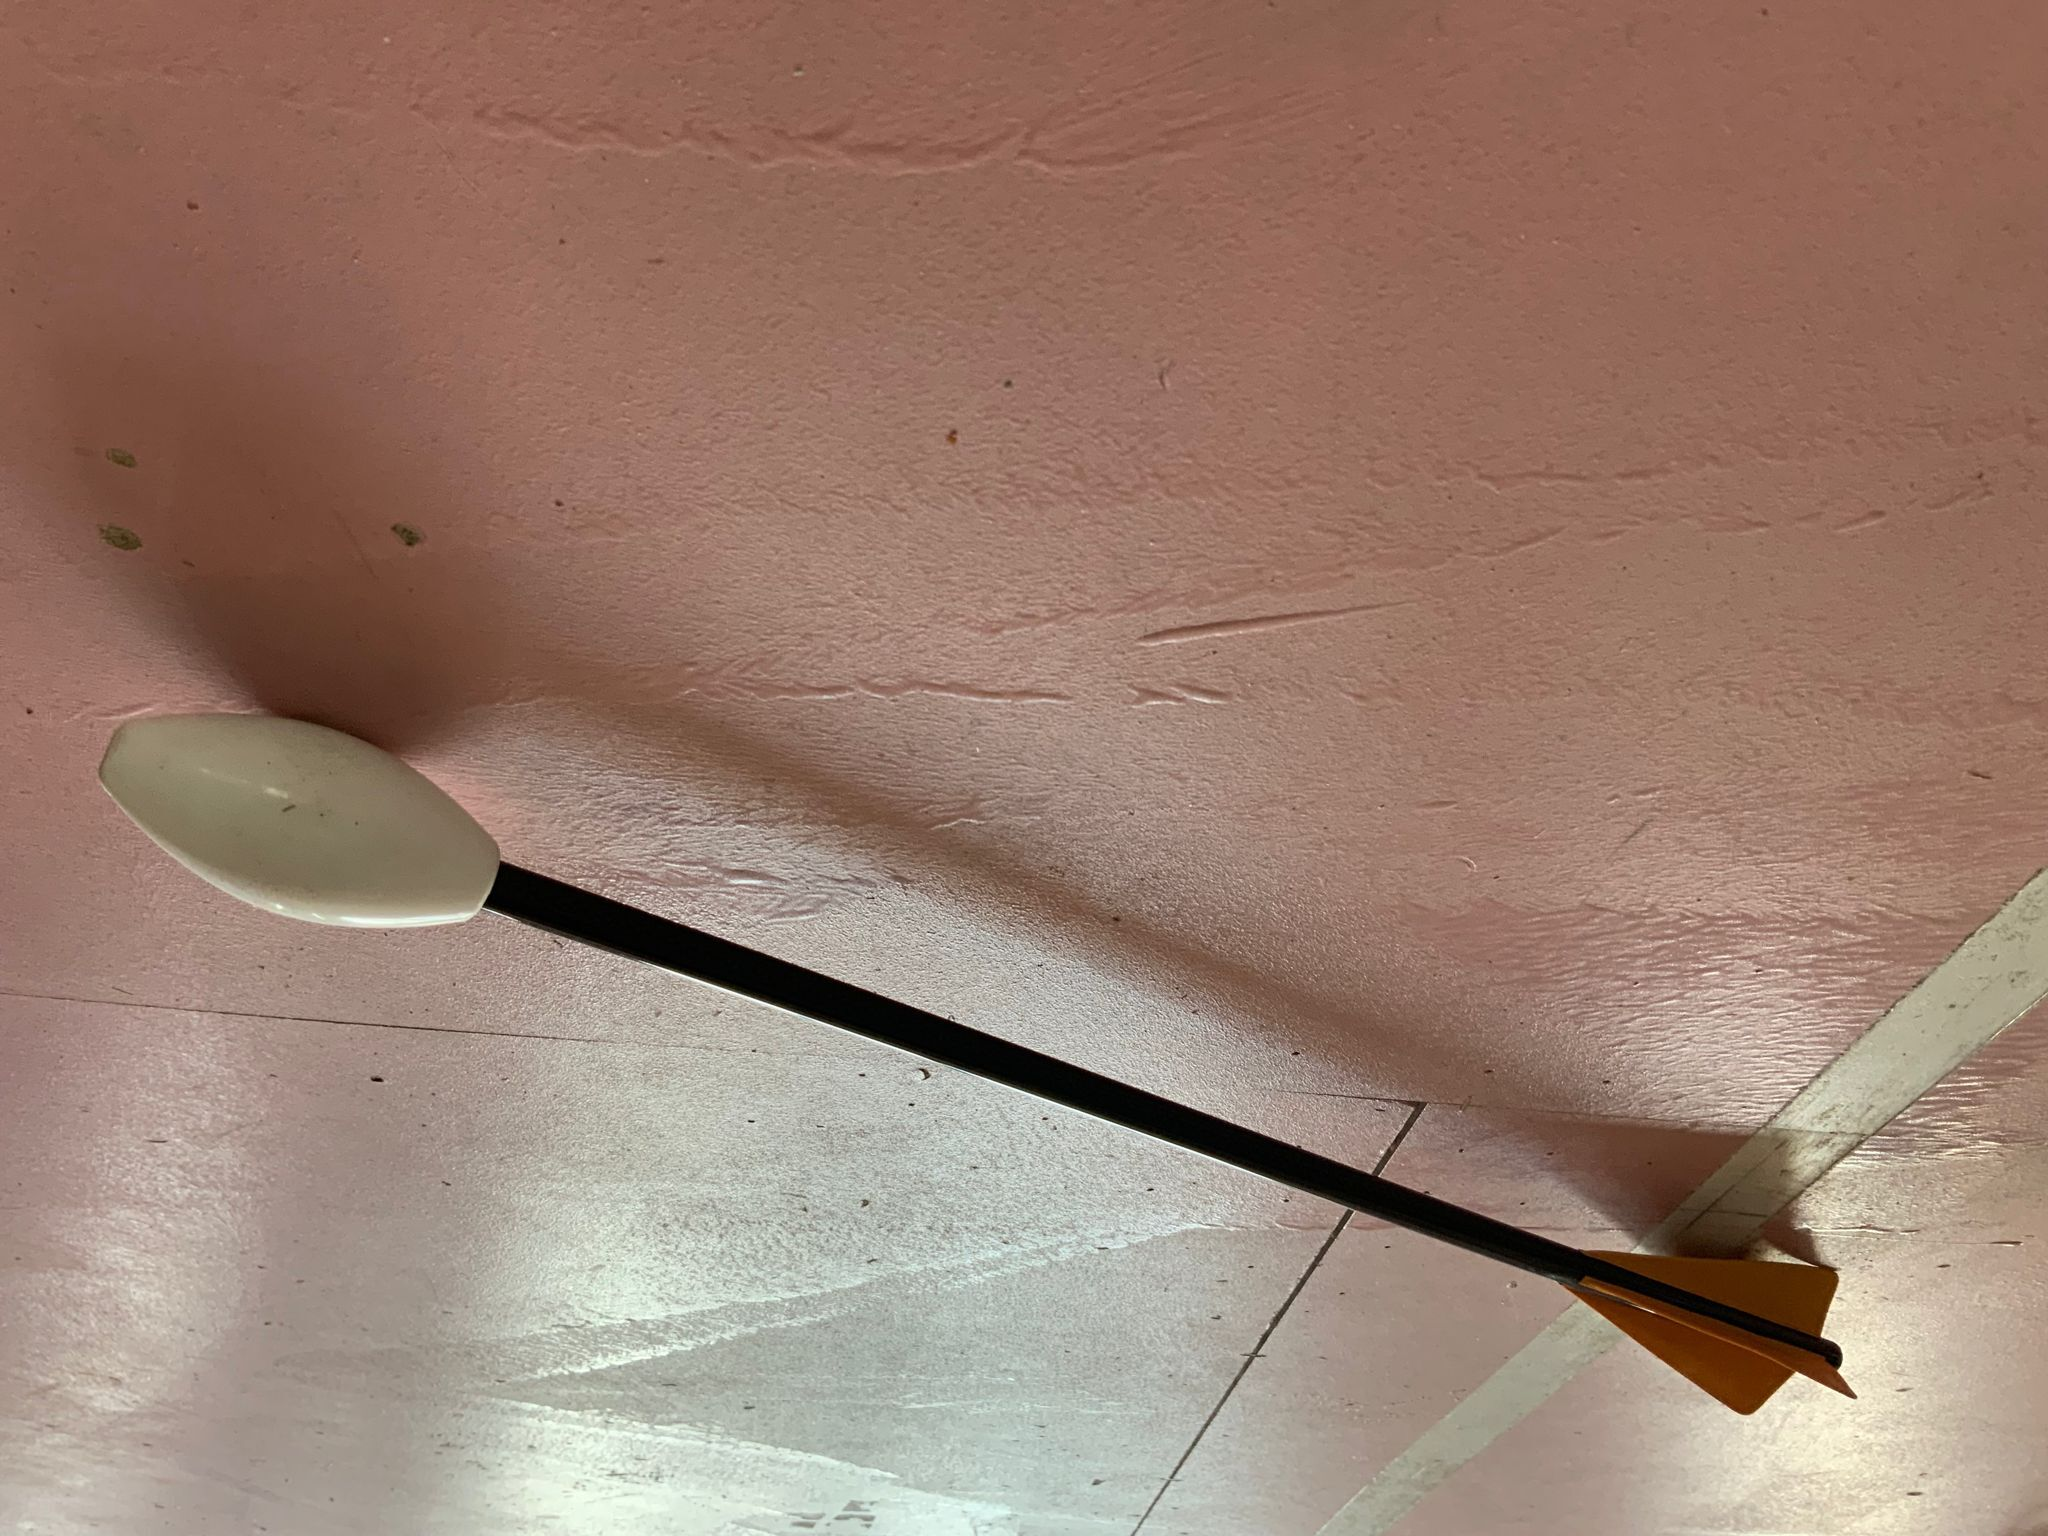arrow: (98, 712, 1863, 1420)
arrowFront: (95, 712, 505, 934)
